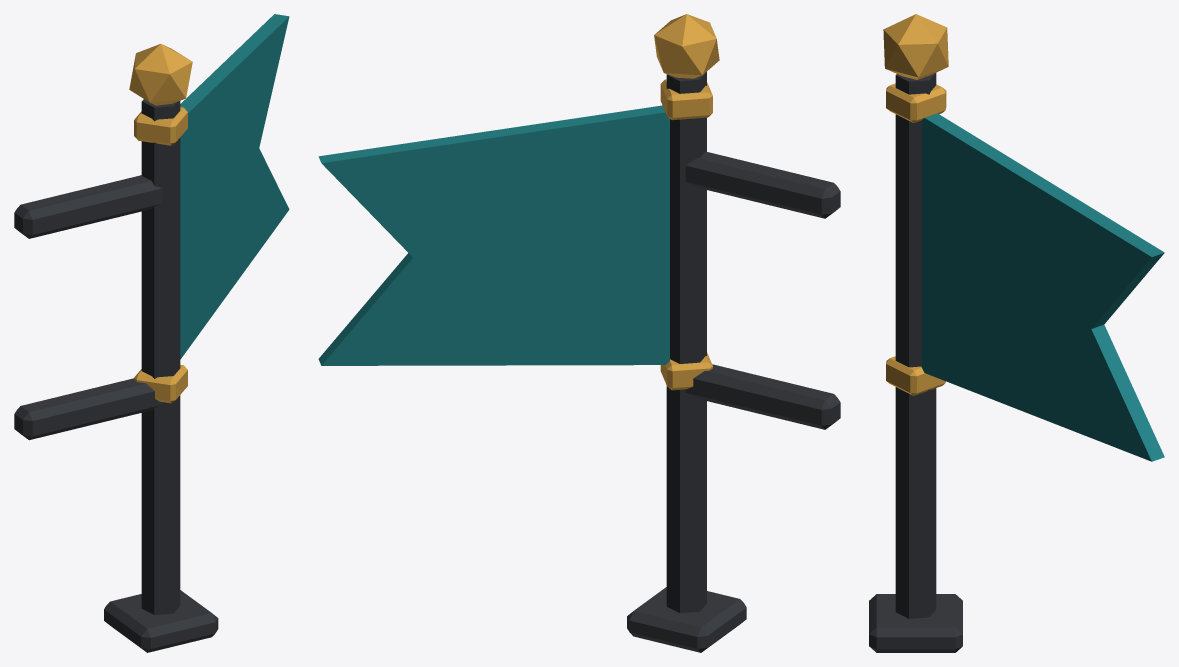
Rendered from HarpoonKit7.obj.
3 renders of one model, left to right at view 1: azimuth 30°, elevation 25°; view 2: azimuth 150°, elevation 25°; view 3: azimuth 270°, elevation 25°, orthographic. The views are drawn at different scales.
Parts seen in each view (by area): view 1: HarpoonKit7; view 2: HarpoonKit7; view 3: HarpoonKit7.
Boxes of the visible parts, x1,y1,x2,y2 form: HarpoonKit7: (14,14,289,652); HarpoonKit7: (318,14,840,652); HarpoonKit7: (869,14,1164,652).
Bounding box in the file's own units: 0.4968 × 0.73 × 0.3145.
